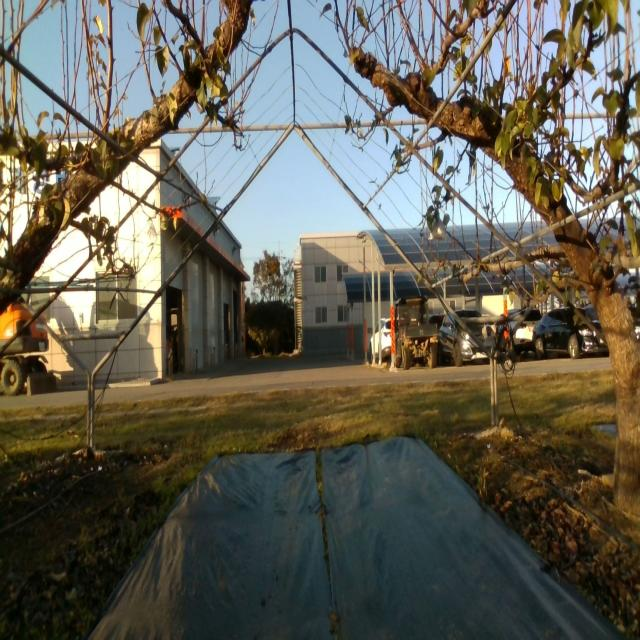pearbags: (429, 217, 449, 242), (146, 224, 157, 247)
